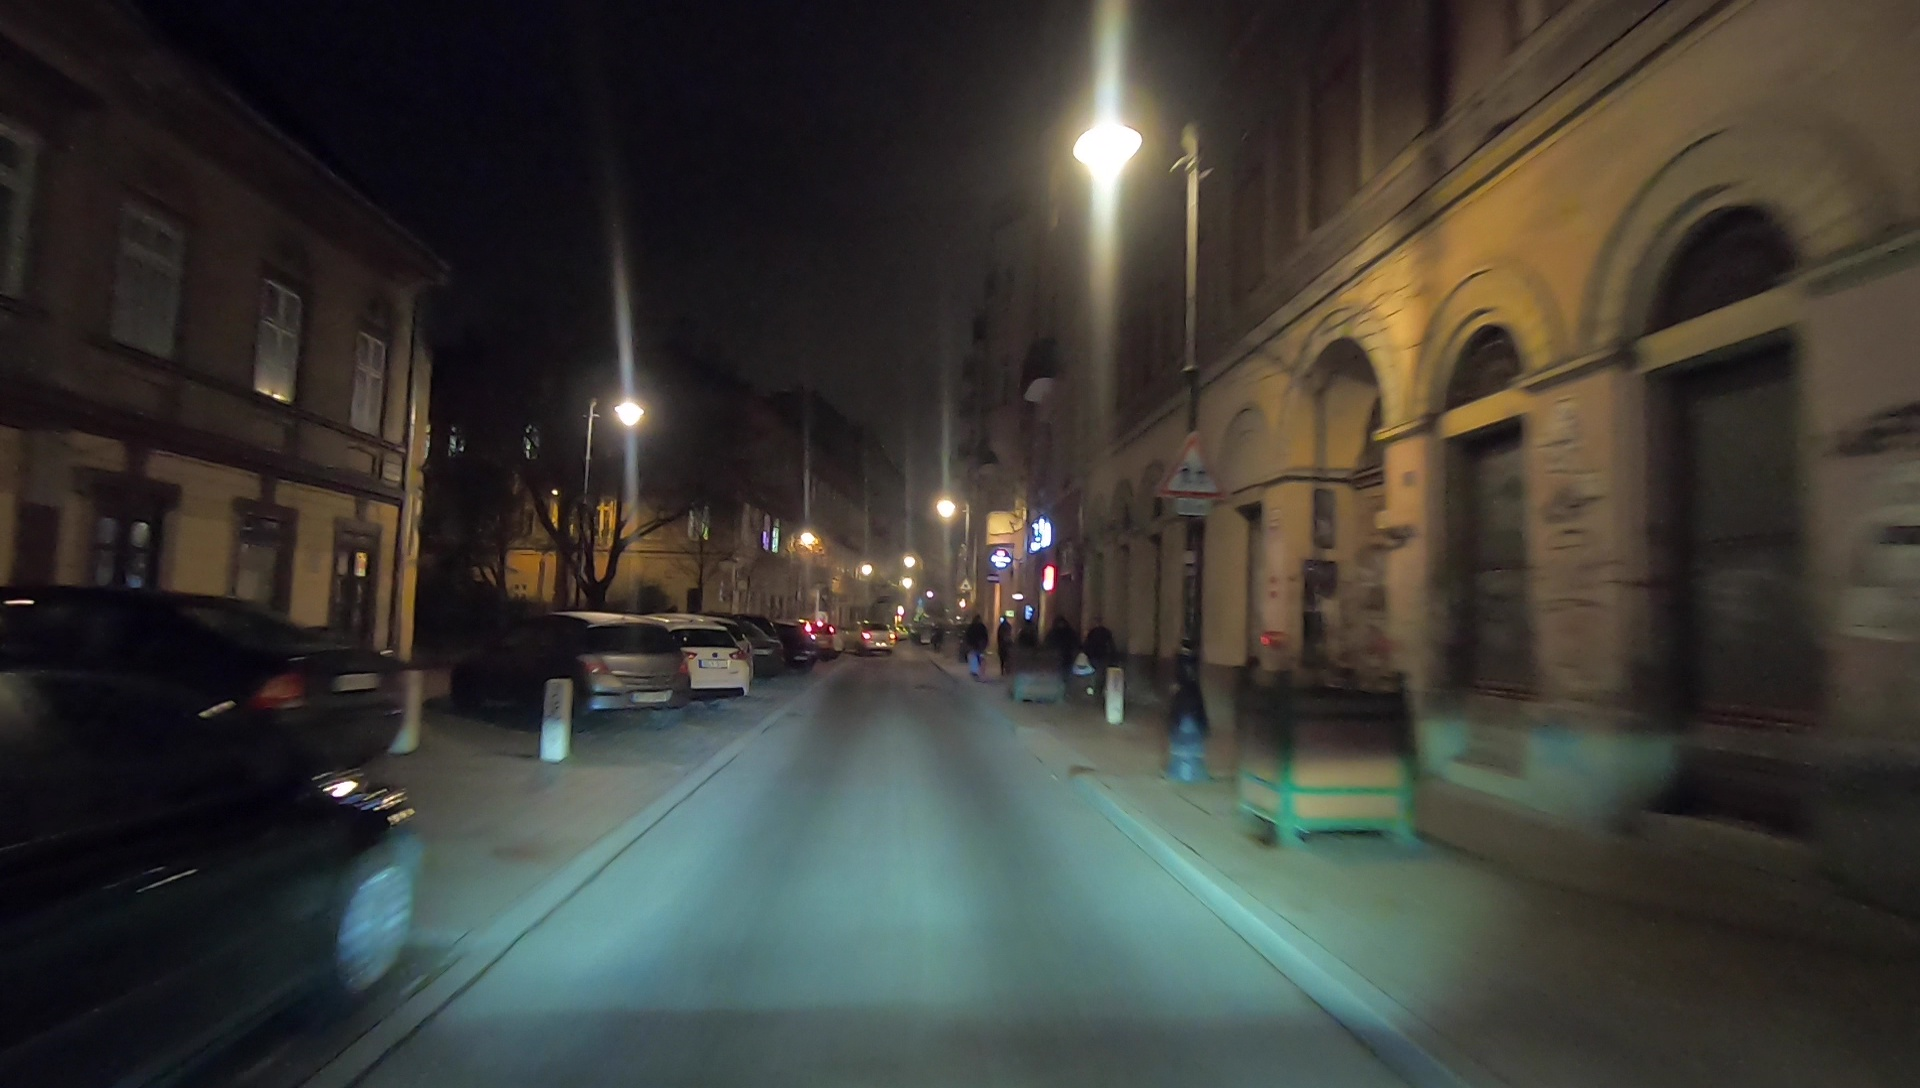person: (1049, 617, 1080, 706), (1085, 619, 1111, 698), (964, 611, 986, 680), (1018, 617, 1037, 693), (997, 614, 1013, 685)
